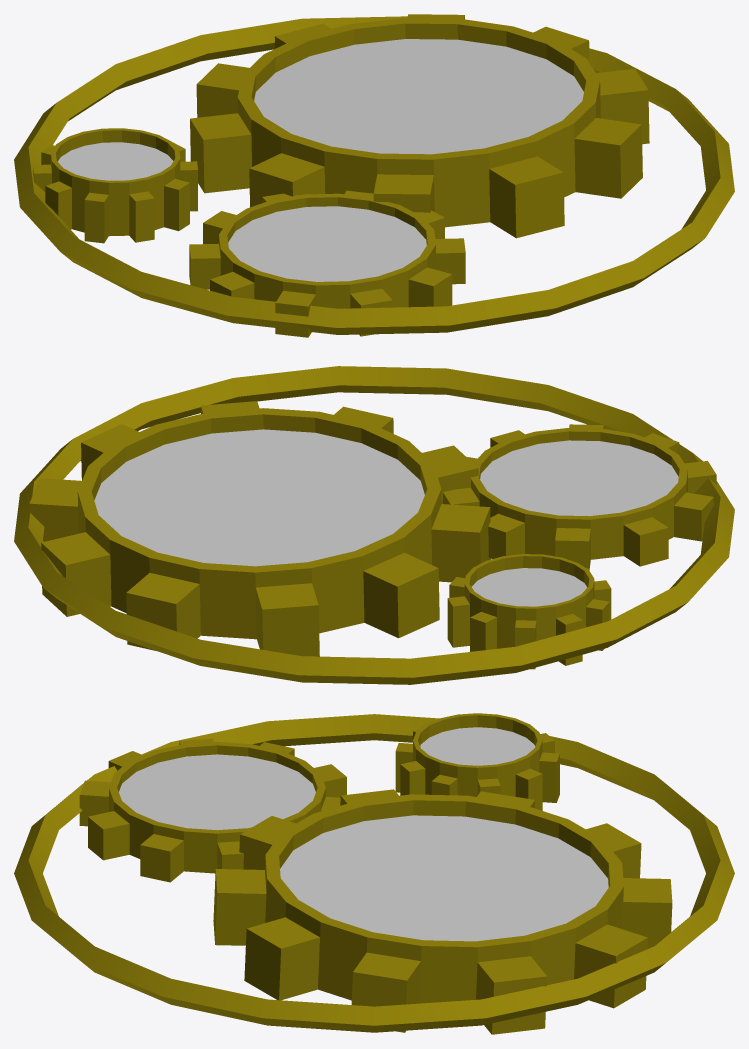
Rendered from gear.fbx.
3 renders of one model, top to bottom at view 1: azimuth 30°, elevation 25°; view 2: azimuth 150°, elevation 25°; view 3: azimuth 270°, elevation 25°, orthographic.
Parts seen in each view (by area): view 1: pCylinder2, pTorus1, pCylinder1, pCylinder3; view 2: pCylinder2, pTorus1, pCylinder1, pCylinder3; view 3: pCylinder2, pTorus1, pCylinder1, pCylinder3.
Part boxes in pixels (box(x1,y1,x2,y2)): pCylinder2: box(190, 14, 649, 238); pTorus1: box(14, 16, 734, 334); pCylinder1: box(189, 190, 465, 337); pCylinder3: box(33, 128, 197, 243); pCylinder2: box(29, 401, 490, 656); pTorus1: box(14, 366, 734, 684); pCylinder1: box(442, 424, 716, 570); pCylinder3: box(447, 554, 611, 669); pCylinder2: box(213, 789, 672, 1034); pTorus1: box(14, 714, 734, 1032); pCylinder1: box(79, 738, 346, 882); pCylinder3: box(395, 713, 559, 810).
Bounding box in the file's own units: 2.5 × 0.3121 × 2.5.
